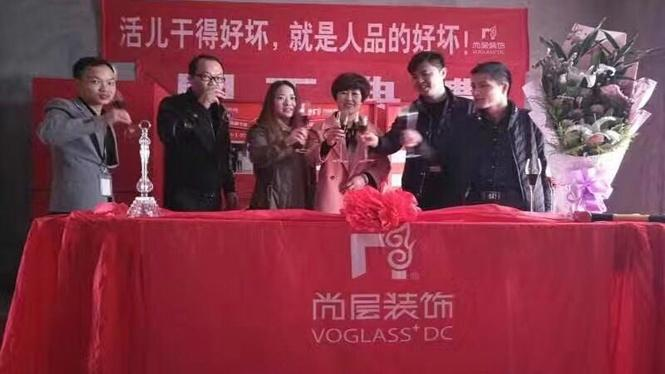not_helmet: (72, 53, 117, 106), (468, 59, 513, 111), (406, 50, 452, 99), (185, 53, 229, 104), (329, 71, 371, 114), (264, 79, 300, 121)
not_reflective: (380, 90, 470, 214), (32, 95, 121, 218), (452, 105, 552, 214), (155, 94, 238, 214), (305, 111, 392, 217), (245, 114, 318, 214)
